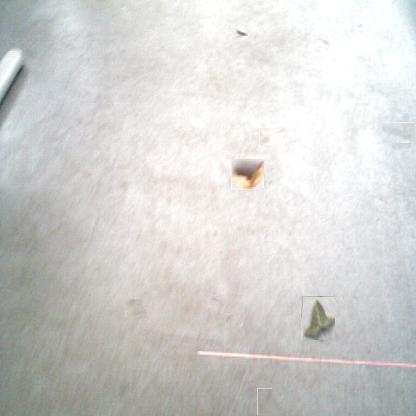dirty: (302, 296, 336, 340), (231, 158, 264, 190), (259, 127, 285, 145), (235, 27, 248, 36)
mark: (386, 117, 416, 147), (257, 388, 272, 415), (124, 298, 142, 318), (318, 36, 329, 48), (224, 312, 234, 322), (210, 295, 218, 305), (356, 22, 363, 30)
